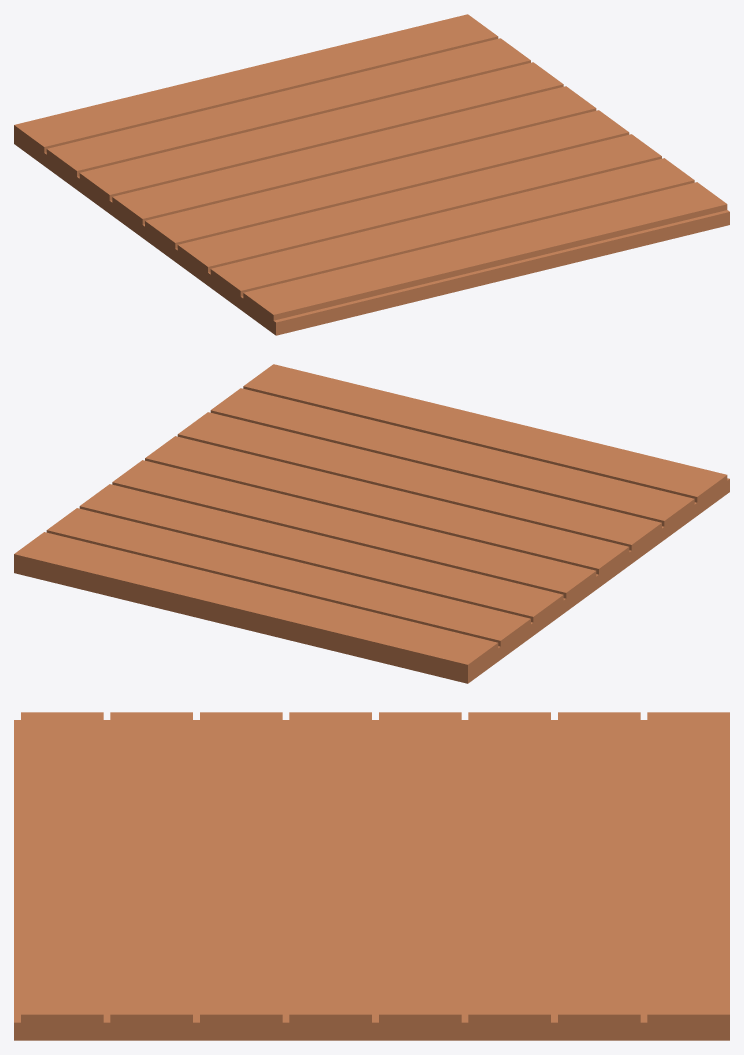
File: cabinFloor.fbx
3 views of the same model, one above another, from view 1: azimuth 30°, elevation 25°; view 2: azimuth 150°, elevation 25°; view 3: azimuth 270°, elevation 25° (orthographic). The views are drawn at different scales.
Visible parts, largest first — view 1: cabinFloor; view 2: cabinFloor; view 3: cabinFloor.
Part boxes in pixels (bbox=[...]): cabinFloor: bbox=[14, 14, 729, 335]; cabinFloor: bbox=[14, 364, 729, 683]; cabinFloor: bbox=[14, 712, 729, 1040].
Size of the model in its own units: 10 by 0.4 by 10.
